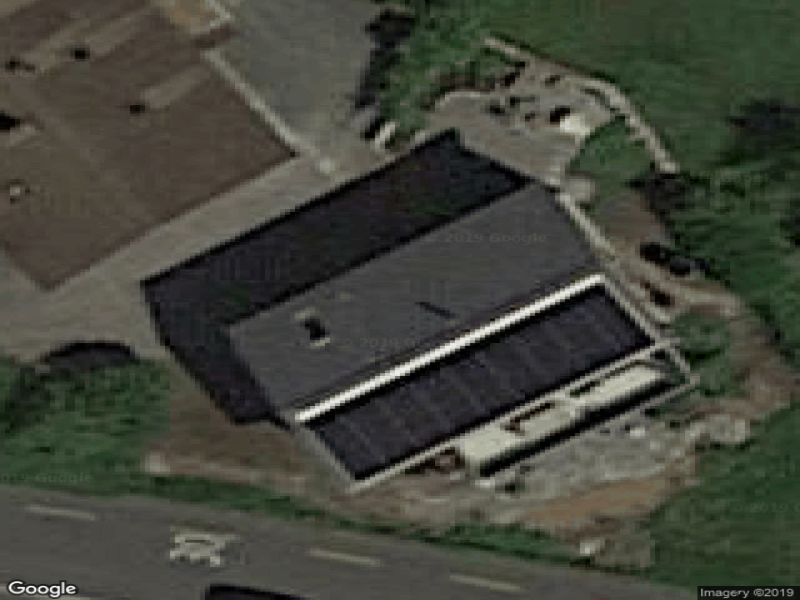pv: (312, 281, 654, 482)
